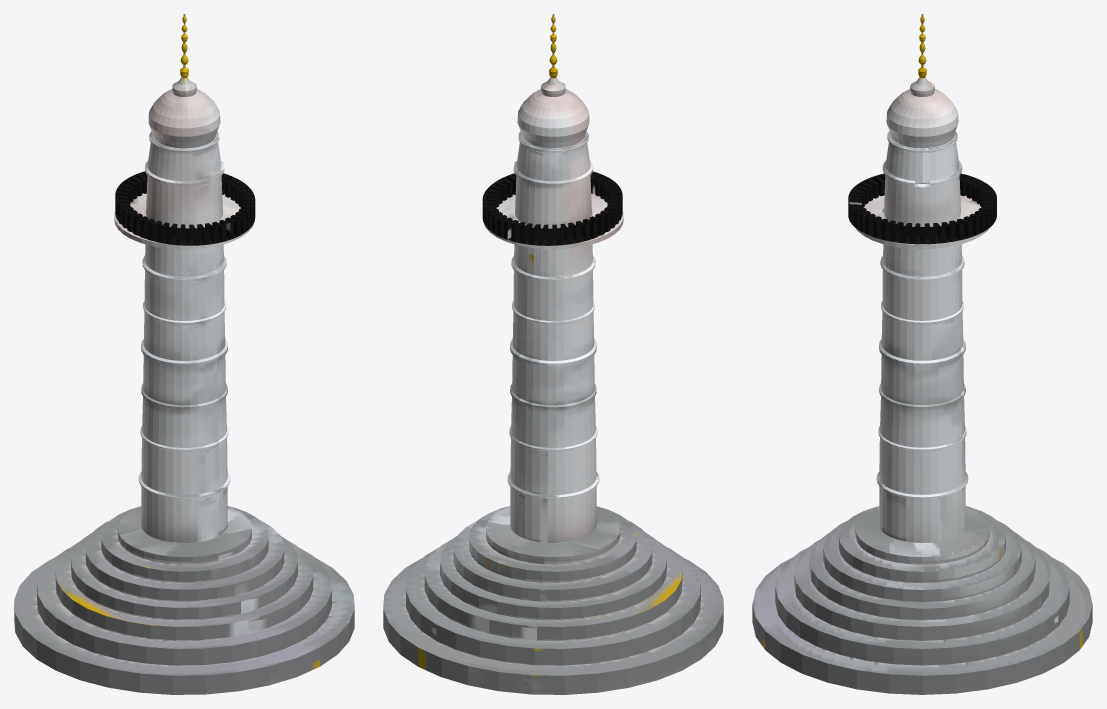
Rendered from dharahara.fbx.
The picture shows the model from 3 angles, left to right: view 1: azimuth 30°, elevation 25°; view 2: azimuth 150°, elevation 25°; view 3: azimuth 270°, elevation 25°; orthographic projection.
Parts seen in each view (by area): view 1: Cylinder, Bar; view 2: Cylinder, Bar; view 3: Cylinder, Bar.
Part boxes in pixels (bbox=[...]): Cylinder: bbox=[14, 14, 354, 694]; Bar: bbox=[115, 171, 255, 245]; Cylinder: bbox=[383, 14, 723, 694]; Bar: bbox=[482, 171, 622, 245]; Cylinder: bbox=[752, 14, 1092, 694]; Bar: bbox=[848, 173, 996, 244].
Size of the model in its own units: 20.36 by 20.26 by 40.
2 materials, 2 textured.
